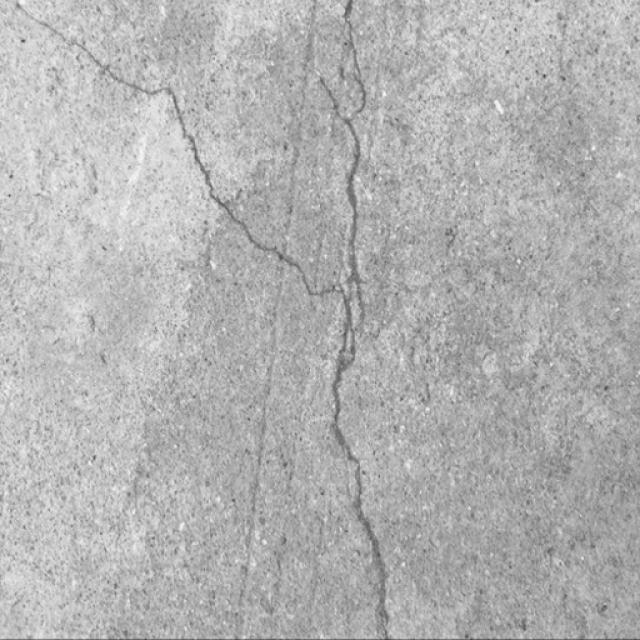SurfaceCrack: (2, 0, 435, 639)
